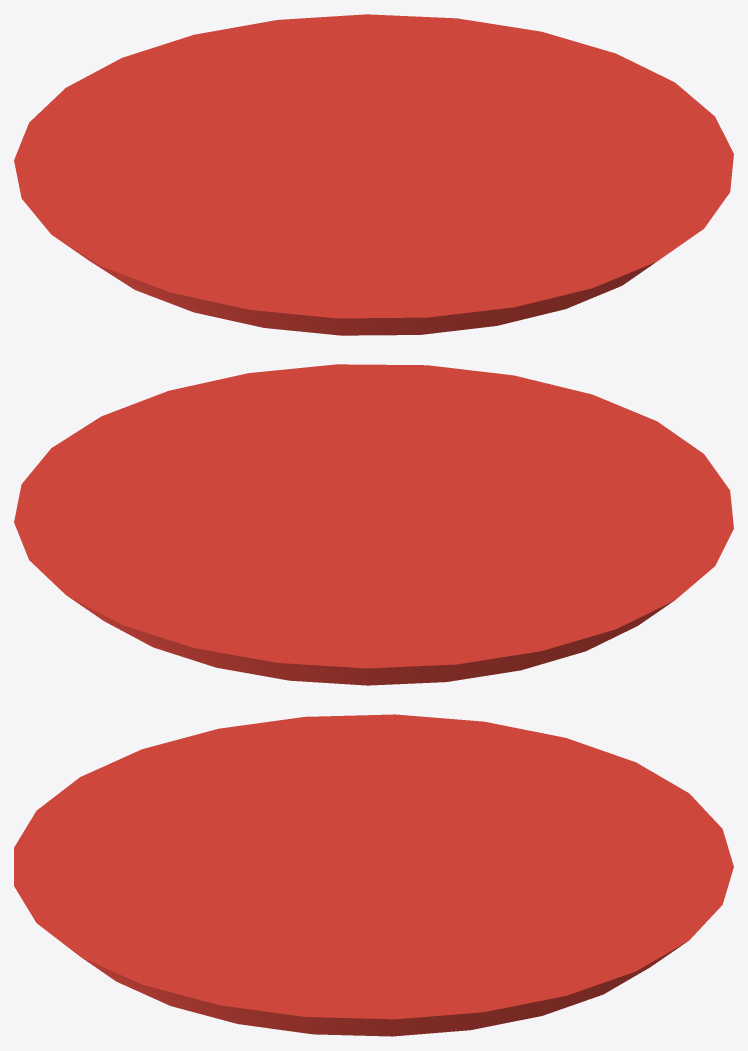
The model's file is Plataforma giratoria ajustadafbx.fbx.
The picture shows the model from 3 angles, top to bottom: view 1: azimuth 30°, elevation 25°; view 2: azimuth 150°, elevation 25°; view 3: azimuth 270°, elevation 25°; orthographic projection.
Parts seen in each view (by area): view 1: Plataforma; view 2: Plataforma; view 3: Plataforma.
Part boxes in pixels (left/top/right/bottom): Plataforma: left=14, top=14, right=733, bottom=335; Plataforma: left=14, top=364, right=733, bottom=685; Plataforma: left=14, top=714, right=733, bottom=1036.
Bounding box in the file's own units: 199 × 200 × 19.52.
